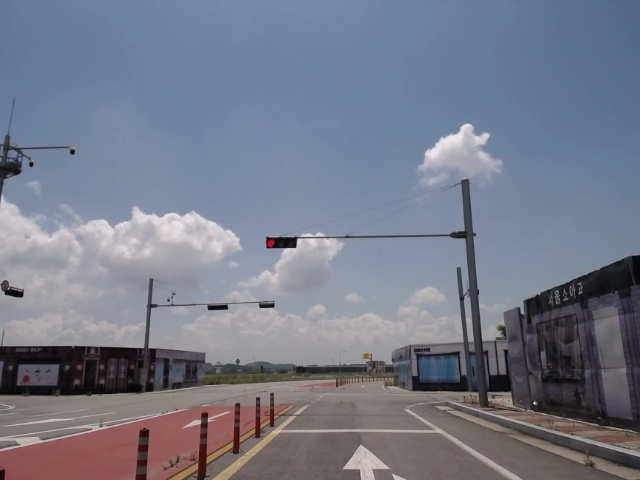red_3: (265, 237, 299, 249)
